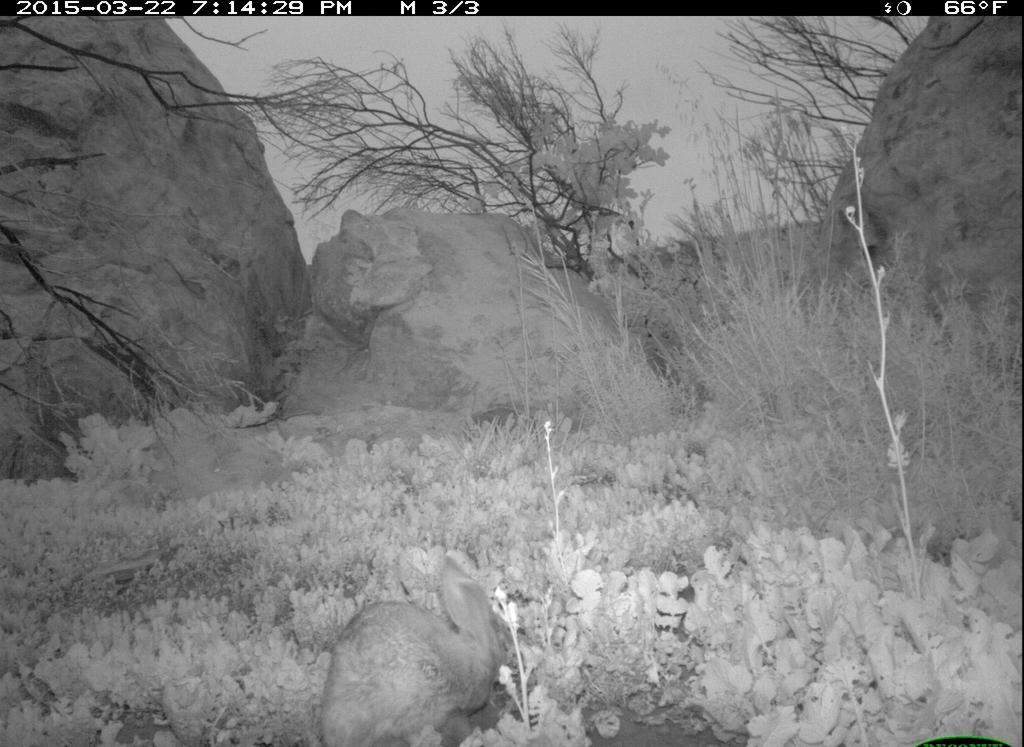rabbit: (314, 569, 514, 743)
